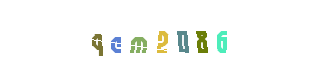0: (122, 0, 202, 80)
2: (122, 0, 202, 80)
6: (182, 0, 262, 80)
8: (143, 0, 223, 80)
C: (99, 0, 179, 80)
M: (118, 0, 198, 80)
Q: (76, 0, 156, 80)
